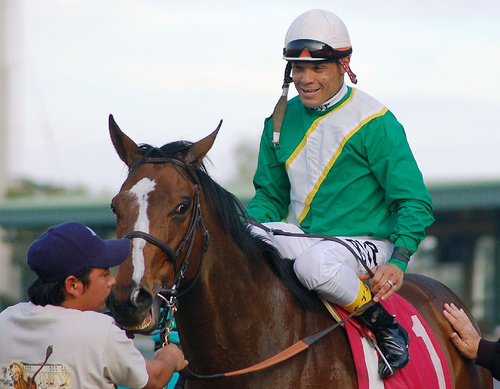without_mask: (284, 50, 348, 105), (61, 259, 116, 312)
